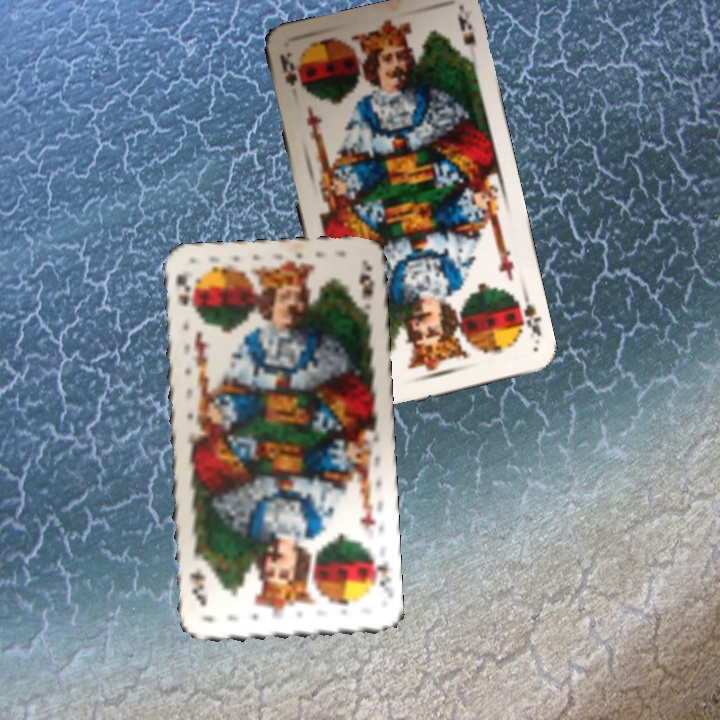SK: (510, 292, 544, 340), (365, 549, 394, 597), (275, 47, 299, 89), (171, 270, 193, 309)
